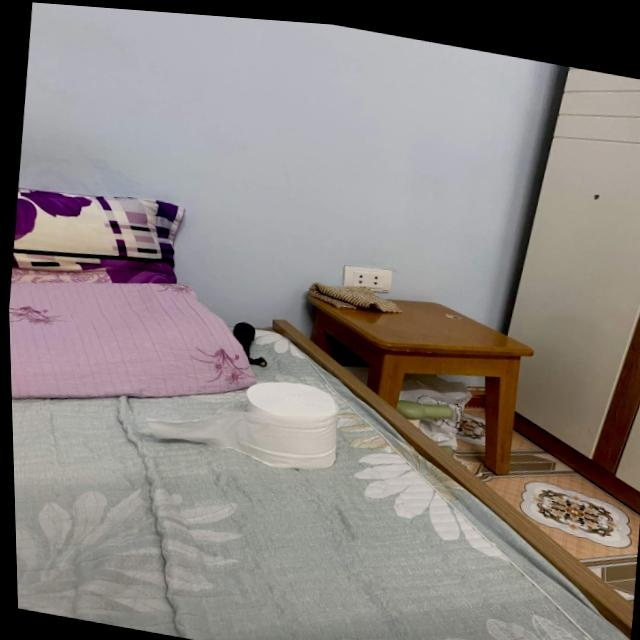outlet: (340, 261, 393, 296)
